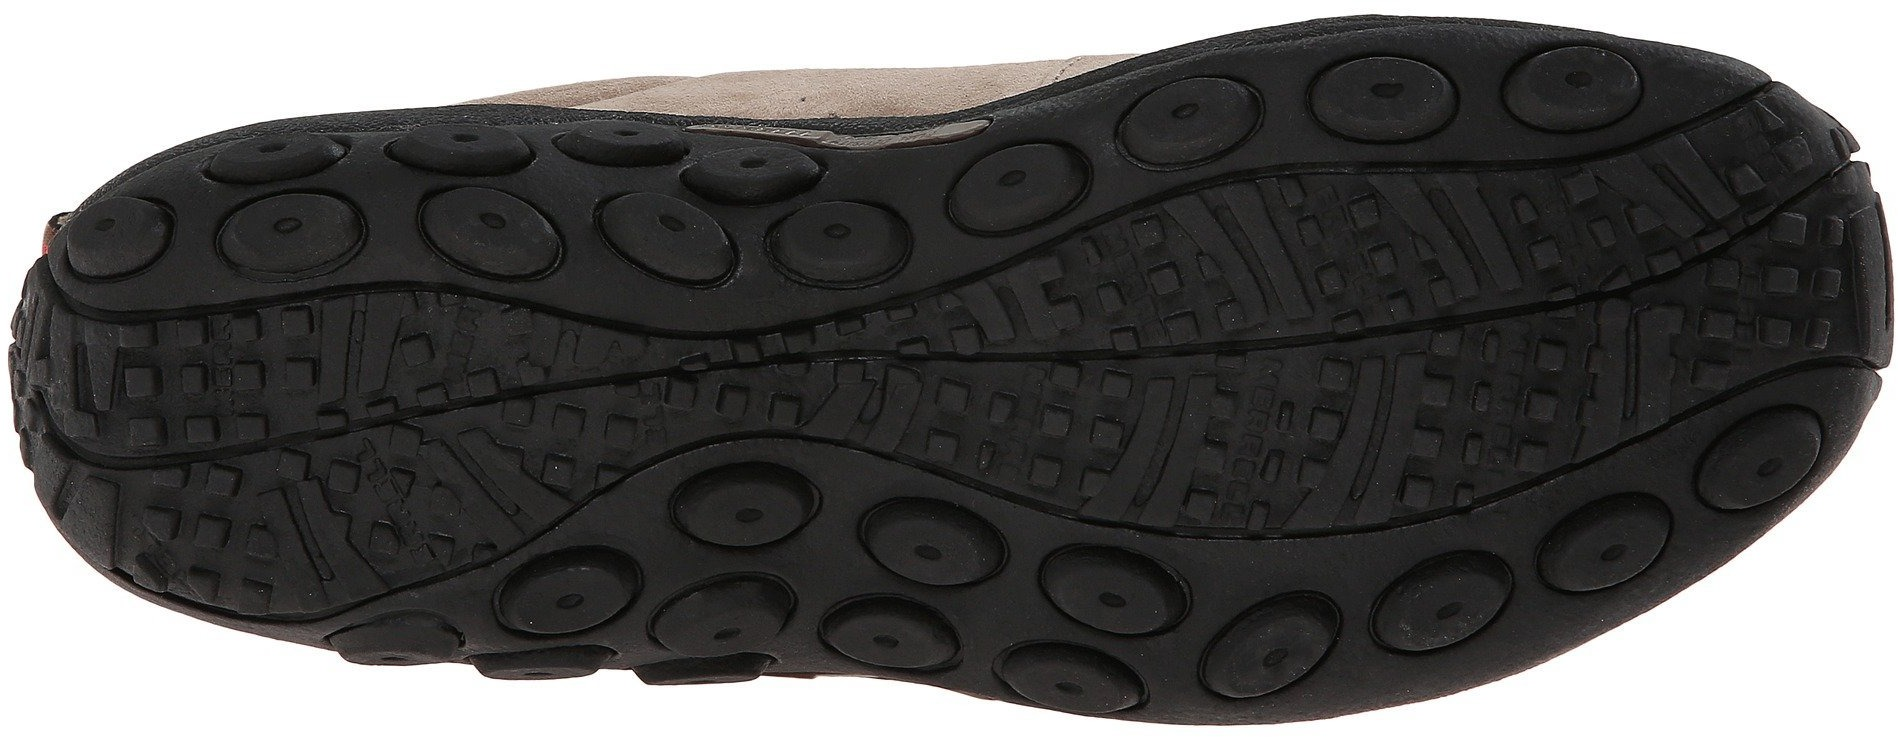circle: (985, 509, 1238, 718), (576, 125, 795, 326), (625, 473, 852, 660), (264, 119, 479, 287), (1252, 549, 1434, 695), (1299, 36, 1466, 169), (1536, 454, 1675, 608)
quad: (1230, 203, 1513, 502), (980, 259, 1226, 503), (297, 309, 550, 535), (1534, 163, 1764, 372), (100, 324, 291, 560)
